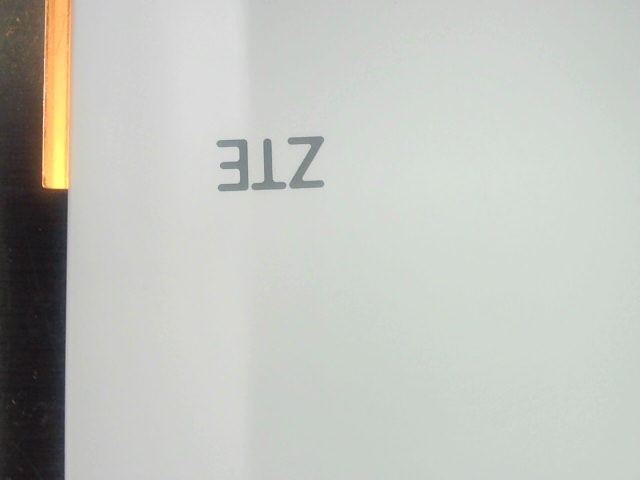AO_ZTESmall: (205, 123, 334, 200)
